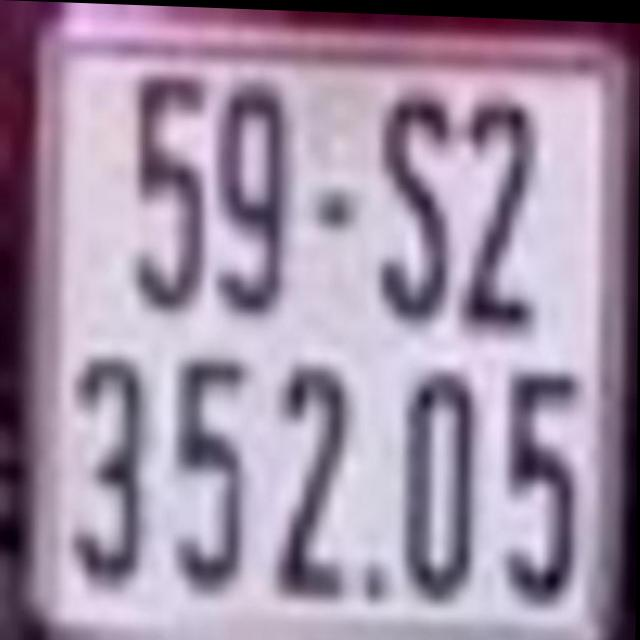0: (397, 357, 476, 599)
2: (465, 95, 545, 320), (273, 370, 353, 594)
3: (69, 358, 160, 588)
5: (130, 70, 207, 307), (506, 361, 579, 601), (171, 351, 244, 588)
S: (372, 91, 455, 318)
